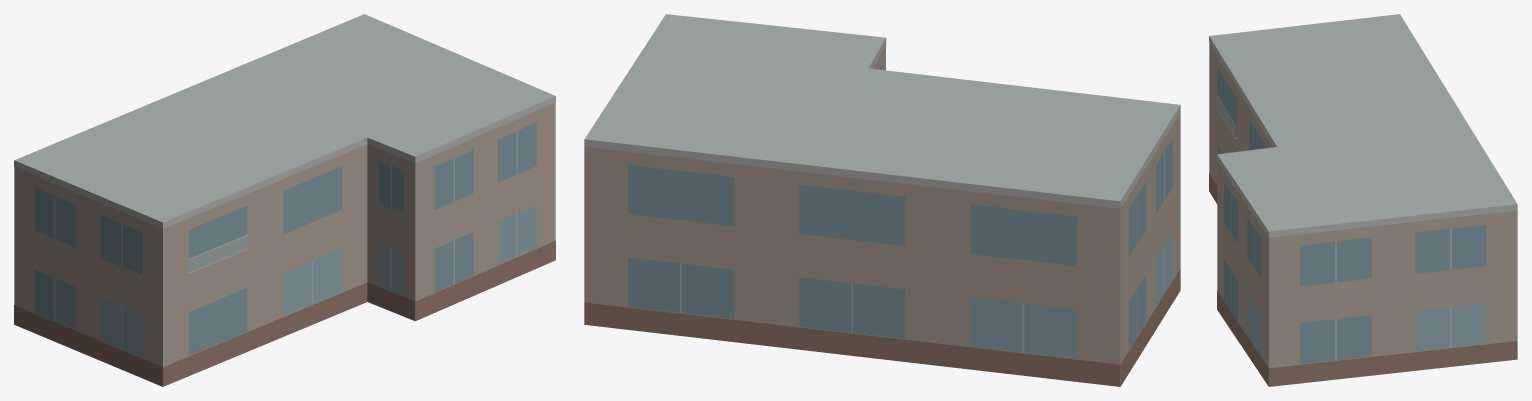
Rendered from survey-upis-32648494.glb.
The picture shows the model from 3 angles, left to right: view 1: azimuth 30°, elevation 25°; view 2: azimuth 150°, elevation 25°; view 3: azimuth 270°, elevation 25°; orthographic projection. The views are drawn at different scales.
Parts seen in each view (by area): view 1: survey-upis-32648494.tmp; view 2: survey-upis-32648494.tmp; view 3: survey-upis-32648494.tmp.
Boxes of the visible parts, bbox=[...] form: survey-upis-32648494.tmp: bbox=[14, 14, 555, 386]; survey-upis-32648494.tmp: bbox=[584, 14, 1180, 386]; survey-upis-32648494.tmp: bbox=[1209, 14, 1517, 386].
Size of the model in its own units: 18.34 by 6.1 by 10.99.
